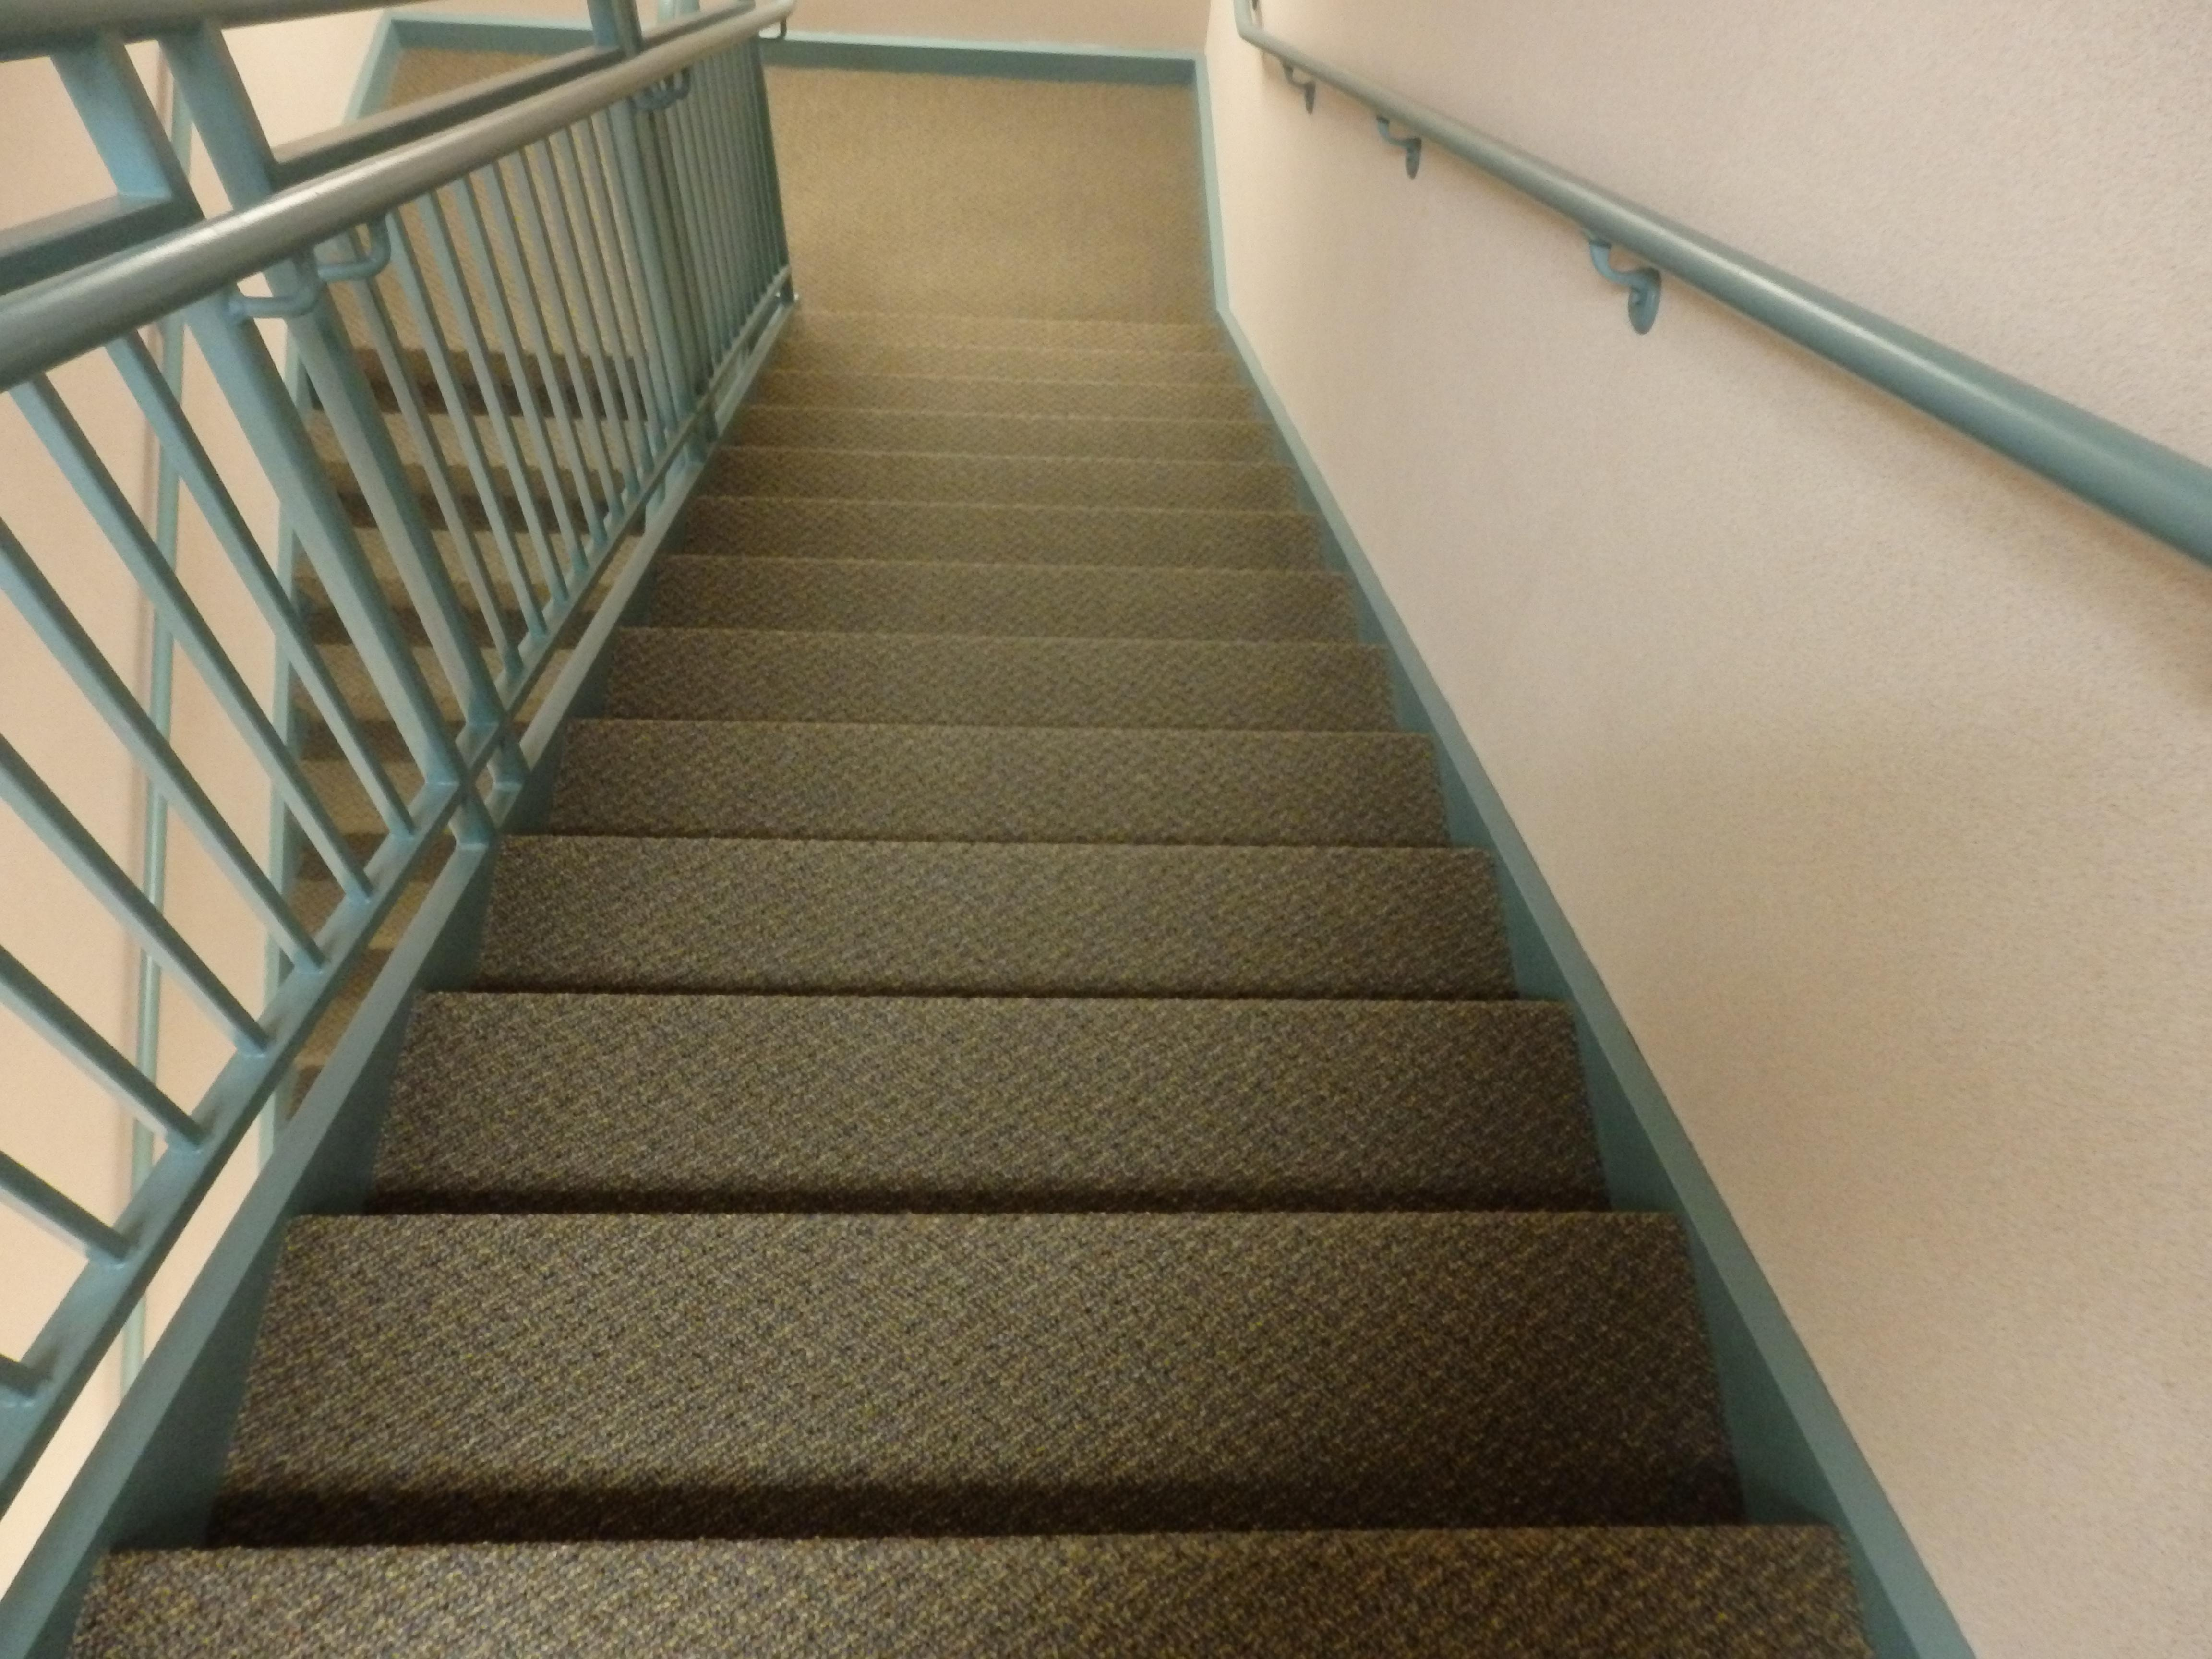stairs_down: (463, 284, 1585, 1582)
